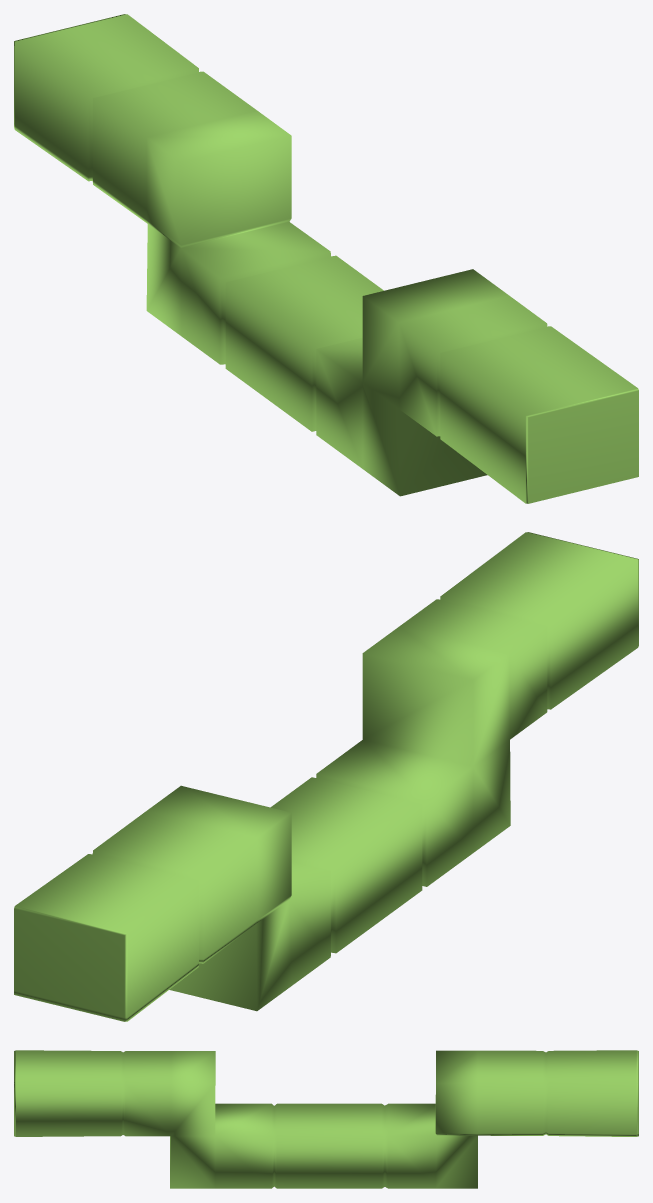
Rendered from Wall_Battlements_01A_Lod0.fbx.
3 renders of one model, top to bottom at view 1: azimuth 30°, elevation 25°; view 2: azimuth 150°, elevation 25°; view 3: azimuth 270°, elevation 25°, orthographic. The views are drawn at different scales.
Visible parts, largest first — view 1: Wall_Battlements_01A_Lod0; view 2: Wall_Battlements_01A_Lod0; view 3: Wall_Battlements_01A_Lod0.
Part boxes in pixels (x1,y1,x2,y2): Wall_Battlements_01A_Lod0: (14,14,638,503); Wall_Battlements_01A_Lod0: (14,532,638,1021); Wall_Battlements_01A_Lod0: (14,1050,638,1188).
Size of the model in its own units: 38.29 by 56.31 by 302.
